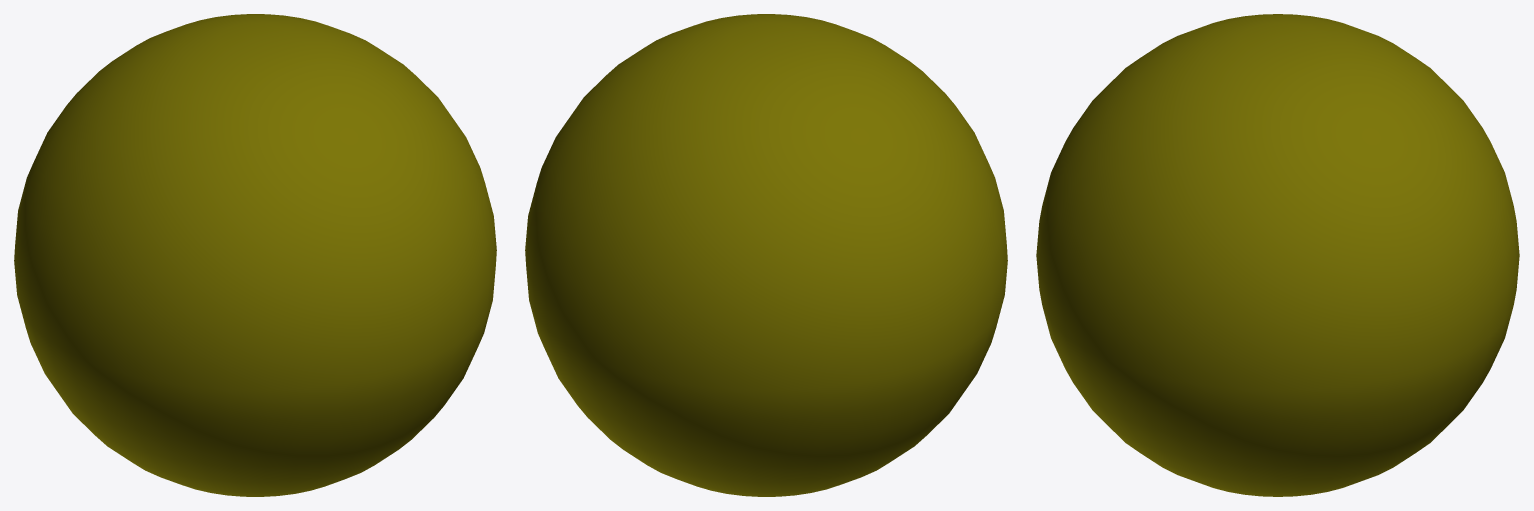
The model's file is Marble_Type04_Planet_001.fbx.
3 views of the same model, side by side, from view 1: azimuth 30°, elevation 25°; view 2: azimuth 150°, elevation 25°; view 3: azimuth 270°, elevation 25° (orthographic).
Parts seen in each view (by area): view 1: Marble_Type06_EXT_001; view 2: Marble_Type06_EXT_001; view 3: Marble_Type06_EXT_001.
Boxes of the visible parts, x1,y1,x2,y2 form: Marble_Type06_EXT_001: [14, 14, 496, 496]; Marble_Type06_EXT_001: [525, 14, 1007, 496]; Marble_Type06_EXT_001: [1036, 14, 1519, 496].
Size of the model in its own units: 100 by 100 by 100.
